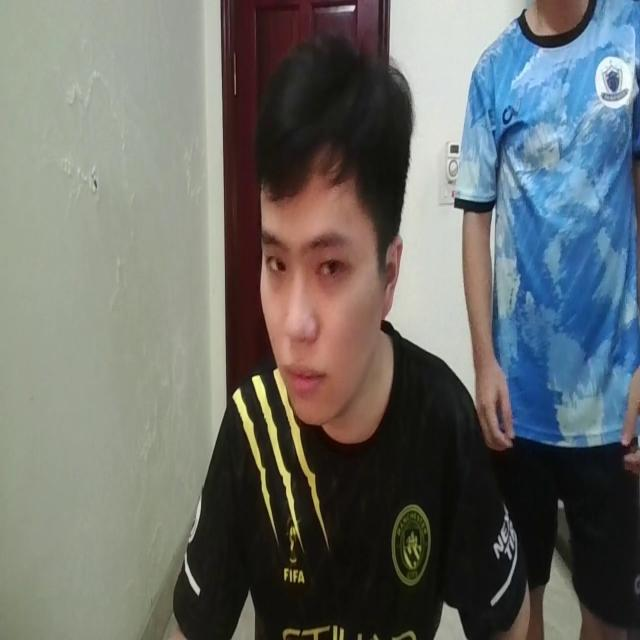extra_person: (459, 0, 640, 640)
student: (170, 35, 525, 640)
